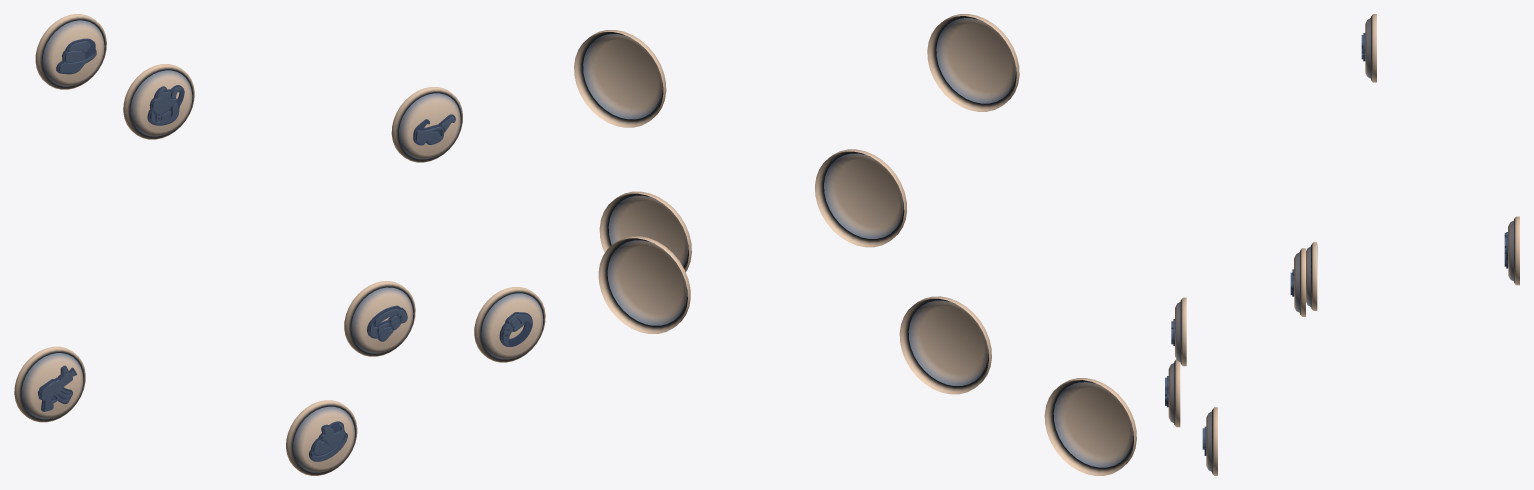
The model's file is BTLMN_LemonIcons.glb.
3 renders of one model, left to right at view 1: azimuth 30°, elevation 25°; view 2: azimuth 150°, elevation 25°; view 3: azimuth 270°, elevation 25°, orthographic. The views are drawn at different scales.
Visible parts, largest first — view 1: icon_hand_r, icon_back, icon_cloth, icon_hand_l, icon_cap, icon_face, icon_foot; view 2: icon_foot, icon_back, icon_cap, icon_hand_r, icon_face, icon_cloth, icon_hand_l; view 3: icon_back, icon_foot, icon_cloth, icon_cap, icon_face, icon_hand_l, icon_hand_r.
Boxes of the visible parts, x1,y1,x2,y2 form: icon_hand_r: (14,346,85,422); icon_back: (123,64,194,139); icon_cloth: (344,281,415,356); icon_hand_l: (474,287,545,362); icon_cap: (35,14,106,89); icon_face: (391,87,462,162); icon_foot: (286,400,357,475); icon_foot: (899,296,991,394); icon_back: (598,236,690,333); icon_cap: (927,14,1019,111); icon_hand_r: (1044,378,1136,475); icon_face: (574,30,666,127); icon_cloth: (815,149,906,247); icon_hand_l: (599,191,691,271); icon_back: (1504,216,1519,285); icon_foot: (1165,359,1180,427); icon_cloth: (1171,297,1186,366); icon_cap: (1361,14,1376,82); icon_face: (1290,248,1305,316); icon_hand_l: (1202,407,1217,475); icon_hand_r: (1306,242,1317,310).
Bounding box in the file's own units: 213 × 176 × 162.
3 materials, 3 textured.
